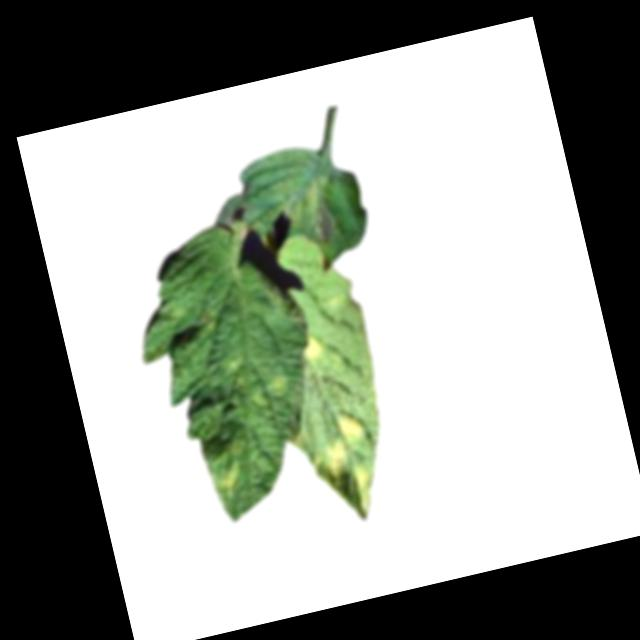Leaf_Mold: (314, 405, 387, 527), (283, 171, 342, 248), (210, 459, 243, 490), (296, 333, 323, 363), (262, 373, 287, 394)
